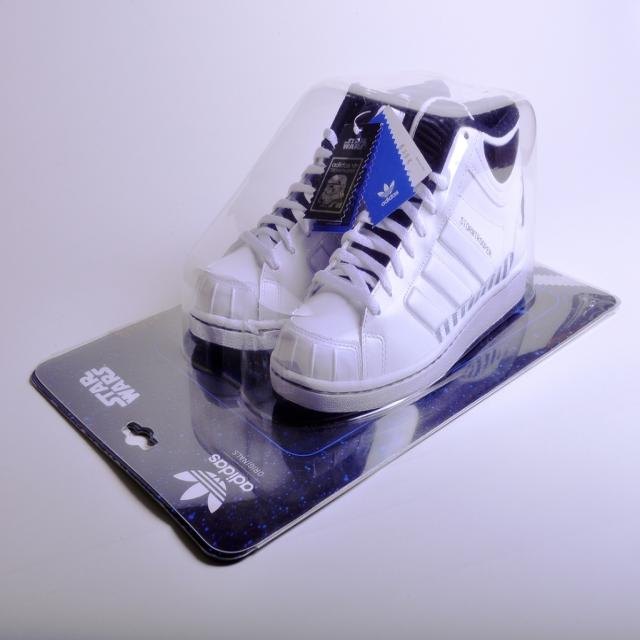adidas: (172, 444, 257, 519), (377, 177, 401, 208)
